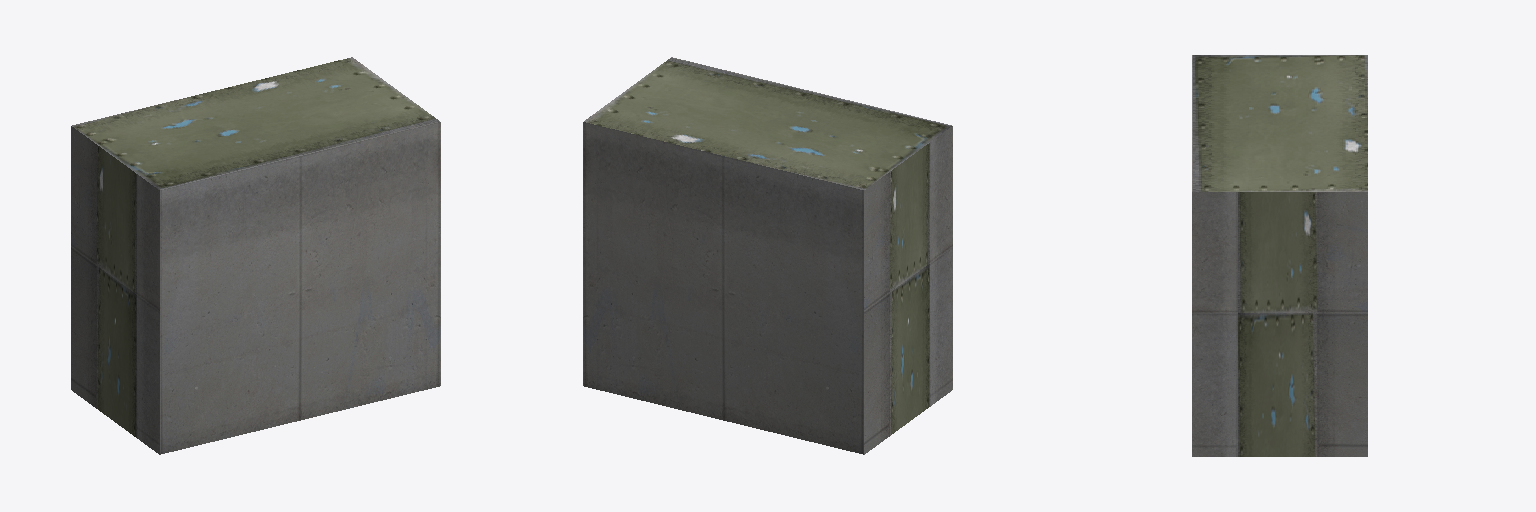
3 views of the same model, side by side, from view 1: azimuth 30°, elevation 25°; view 2: azimuth 150°, elevation 25°; view 3: azimuth 270°, elevation 25° (orthographic).
Visible parts, largest first — view 1: electricBox_1; view 2: electricBox_1; view 3: electricBox_1.
Boxes of the visible parts, box(x1,y1,x2,y2) form: electricBox_1: box(71, 57, 440, 454); electricBox_1: box(583, 57, 952, 454); electricBox_1: box(1192, 55, 1367, 456).
Size of the model in its own units: 0.8 by 0.7189 by 0.4358.
1 materials, 1 textured.